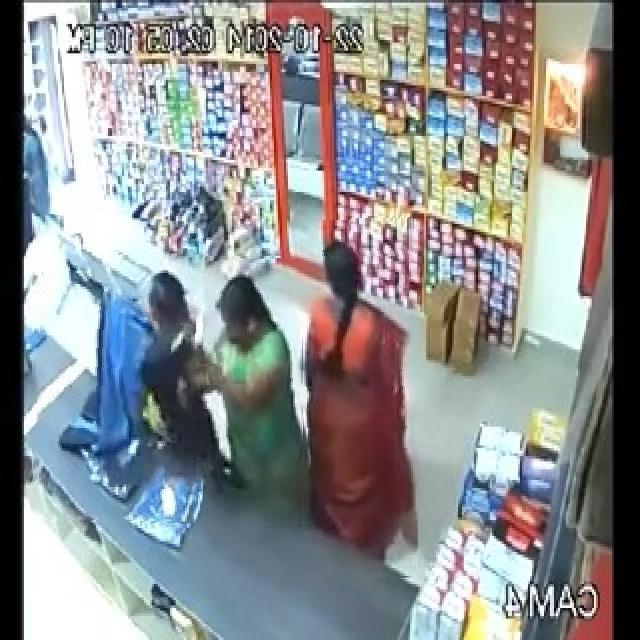Normal: (33, 216, 203, 522), (288, 217, 418, 578), (139, 259, 304, 528)
